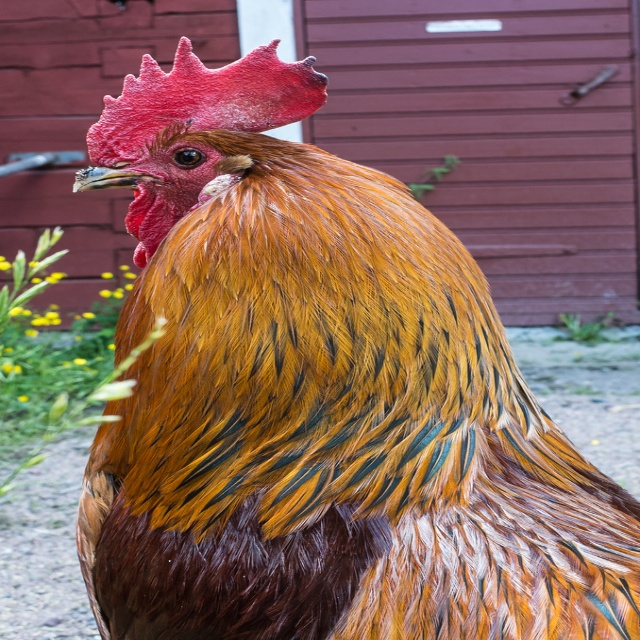Chicken: (69, 35, 640, 640)
